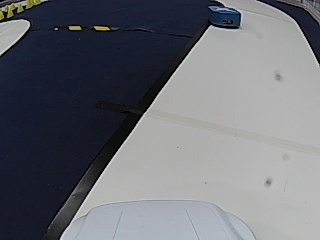prop: (209, 6, 240, 29)
